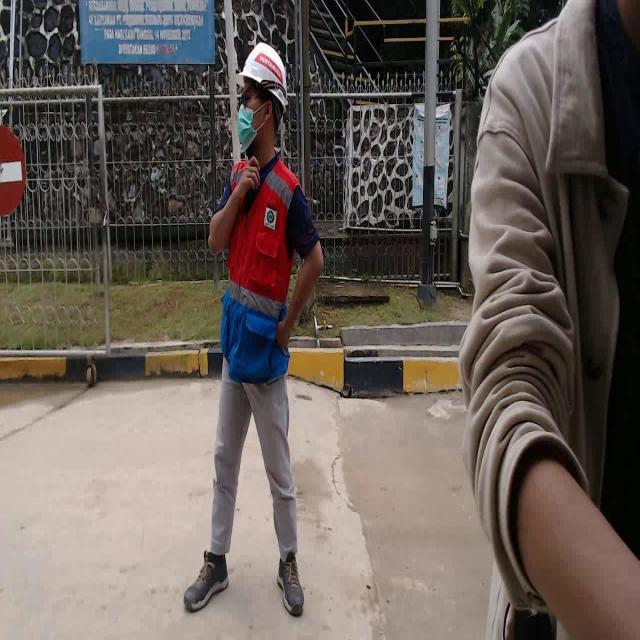hat: (235, 38, 296, 117)
